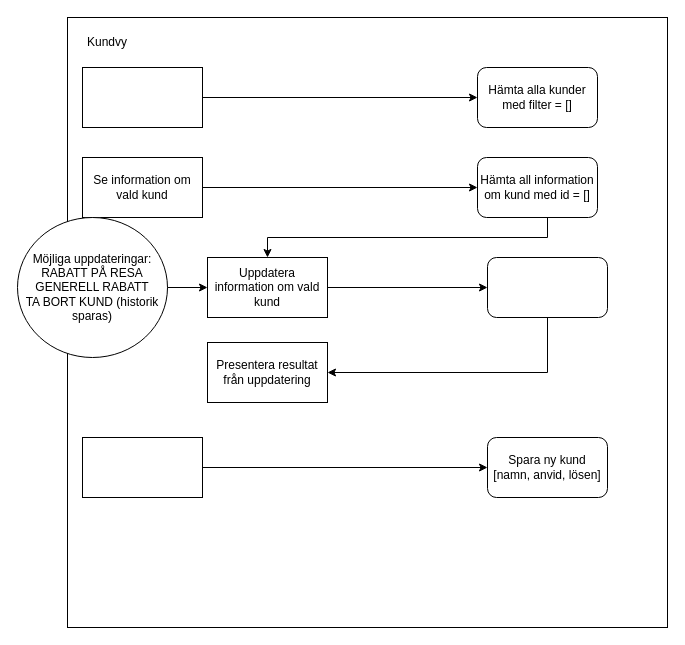
This 685x645 diagram has some shape labels left out. Here are the shapes that lost their labels. From the top down, the box of each, then its label:
(82, 66, 202, 128): Se en lista på alla/filtrerade kunder
(486, 256, 608, 318): Skicka uppdatering [uppdatering] till kund med namn/id=[]
(82, 436, 202, 498): Skapa ny kund [namn, anvid, lösen]
